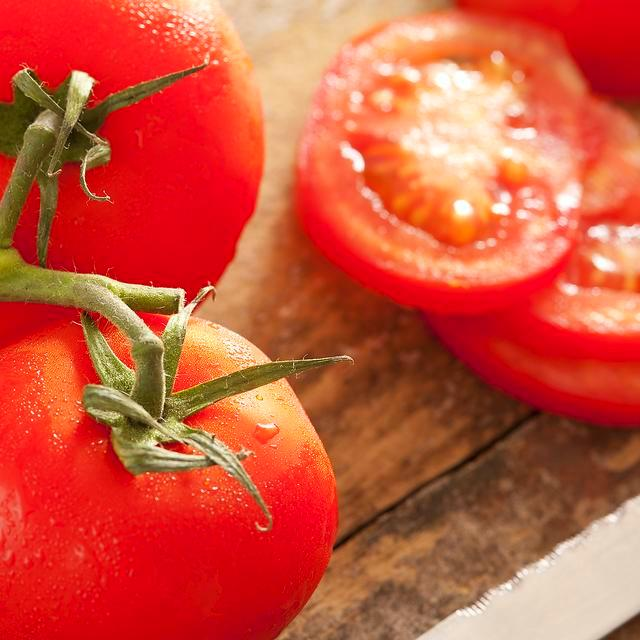tomato: (0, 322, 337, 639), (175, 311, 269, 390), (100, 323, 131, 366), (142, 314, 167, 334)
